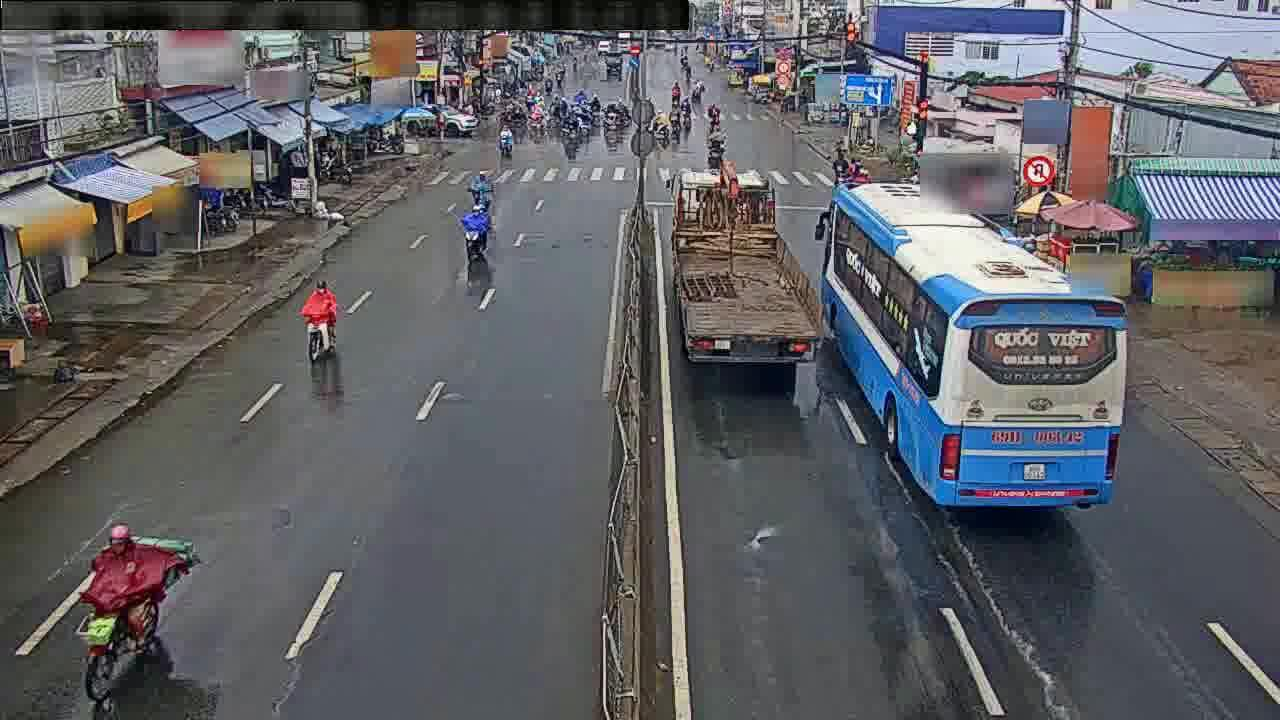container: (664, 165, 822, 361)
motorbike: (77, 516, 195, 711), (300, 279, 342, 363), (463, 203, 487, 264), (467, 172, 495, 211), (704, 124, 727, 159), (496, 120, 515, 159)
passenger_car: (815, 183, 1127, 508)
